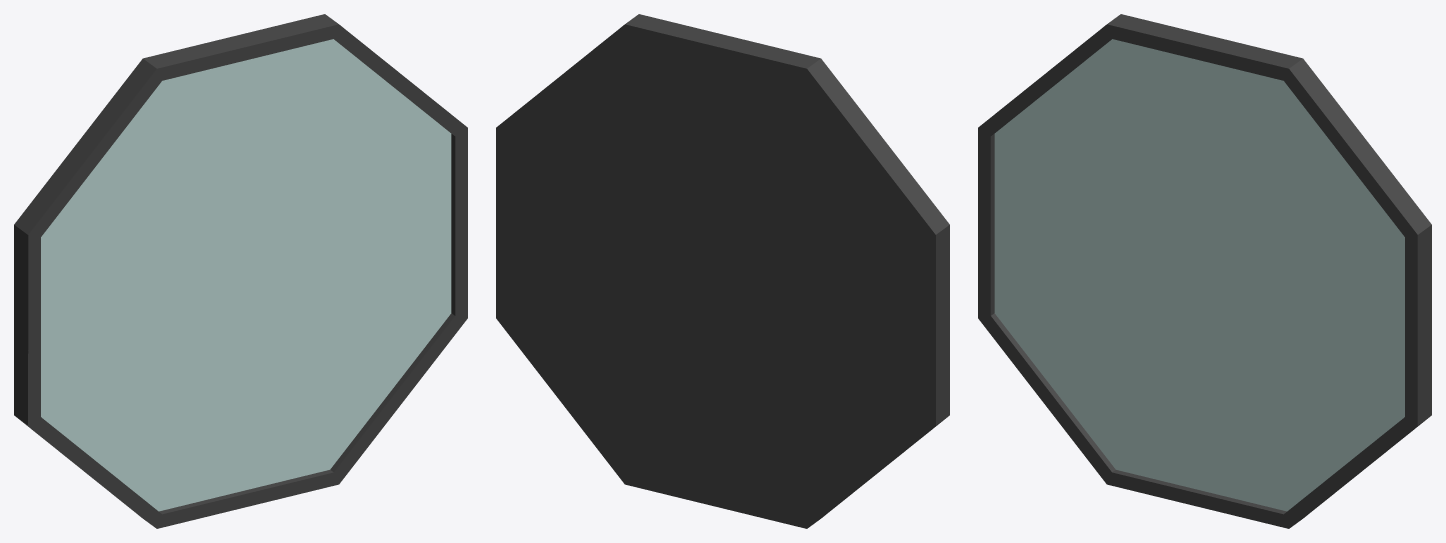
File: Mirror_04_C2.fbx
The picture shows the model from 3 angles, left to right: view 1: azimuth 30°, elevation 25°; view 2: azimuth 150°, elevation 25°; view 3: azimuth 330°, elevation 25°; orthographic projection.
Visible parts, largest first — view 1: Mirror_04_C2; view 2: Mirror_04_C2; view 3: Mirror_04_C2.
Boxes of the visible parts, x1=… form: Mirror_04_C2: x1=14, y1=14, x2=467, y2=528; Mirror_04_C2: x1=496, y1=14, x2=949, y2=528; Mirror_04_C2: x1=978, y1=14, x2=1431, y2=528.
Bounding box in the file's own units: 90 × 90 × 5.
